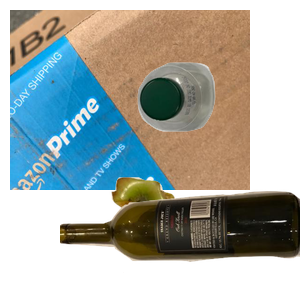cardboard: (10, 10, 250, 190)
glass: (60, 189, 300, 300)
plastic: (135, 60, 300, 184)
trash: (109, 175, 279, 300)
